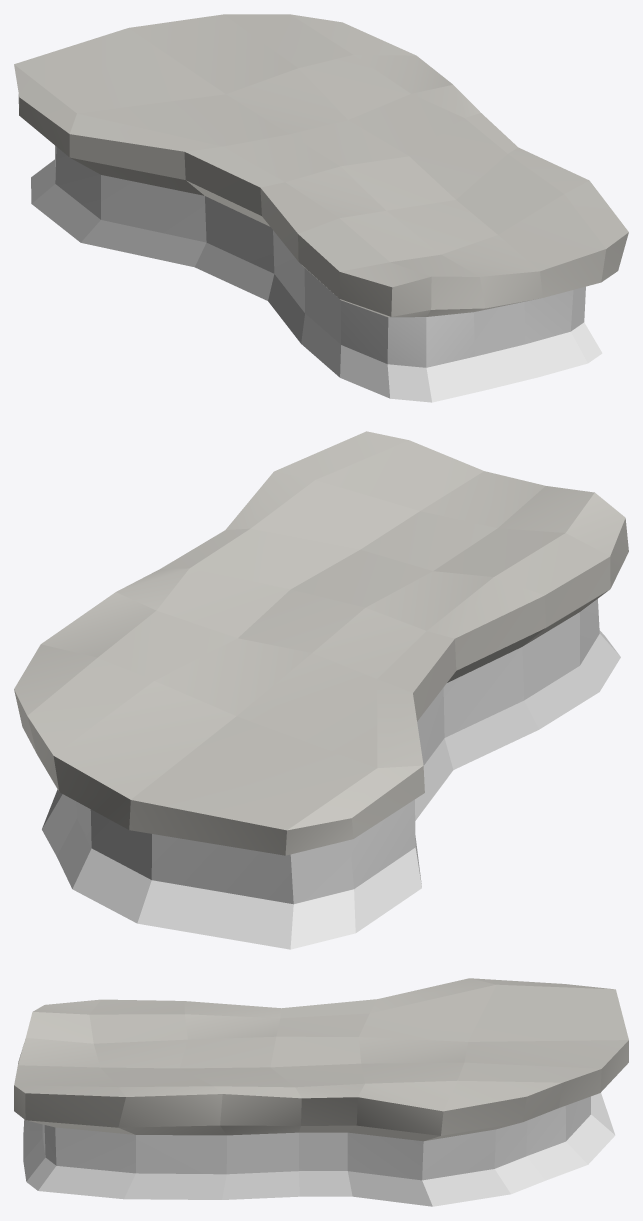
The model's file is christmasIslandBigFlat.dae.
The picture shows the model from 3 angles, top to bottom: view 1: azimuth 30°, elevation 25°; view 2: azimuth 150°, elevation 25°; view 3: azimuth 270°, elevation 25°; orthographic projection. The views are drawn at different scales.
Visible parts, largest first — view 1: christmasIslandBigFlat; view 2: christmasIslandBigFlat; view 3: christmasIslandBigFlat.
Boxes of the visible parts, bbox=[...] form: christmasIslandBigFlat: bbox=[14, 14, 628, 402]; christmasIslandBigFlat: bbox=[14, 431, 628, 949]; christmasIslandBigFlat: bbox=[14, 978, 628, 1206].
Size of the model in its own units: 9.64 by 17.8 by 3.51.
Materials: 2 (1 with a texture image).
